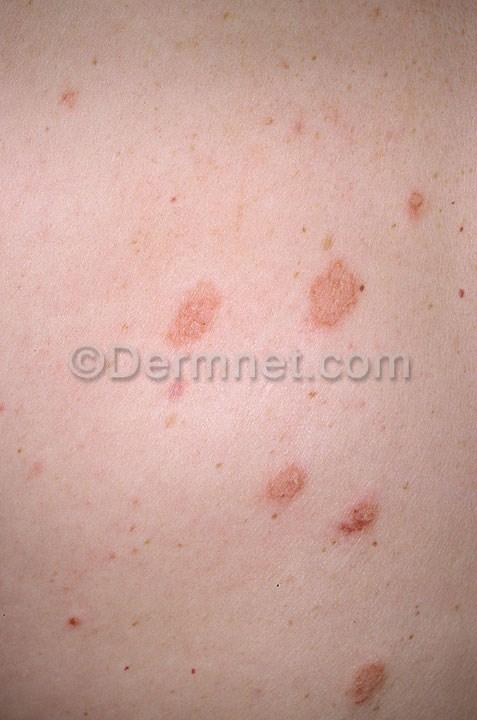Eczema: (276, 242, 377, 332), (127, 167, 231, 250), (141, 262, 239, 343), (4, 293, 93, 379), (260, 161, 357, 238), (262, 81, 357, 156), (138, 79, 225, 154), (104, 497, 185, 573), (366, 76, 448, 151), (326, 639, 400, 720), (319, 477, 392, 559), (19, 159, 76, 264), (249, 442, 312, 528), (131, 361, 202, 436), (272, 569, 336, 641), (404, 0, 474, 63), (277, 371, 352, 429), (34, 67, 97, 133), (43, 588, 96, 654), (383, 178, 443, 233), (193, 0, 253, 53), (67, 243, 117, 306), (66, 27, 123, 78), (10, 441, 64, 493), (111, 614, 155, 676), (262, 38, 323, 79), (233, 667, 287, 713), (362, 409, 408, 454), (433, 280, 477, 326), (393, 463, 433, 511), (246, 388, 285, 437), (400, 597, 434, 653), (440, 574, 472, 631), (354, 0, 390, 49), (199, 441, 233, 489), (285, 672, 319, 719), (157, 29, 189, 71), (181, 654, 218, 690), (447, 419, 477, 459)
